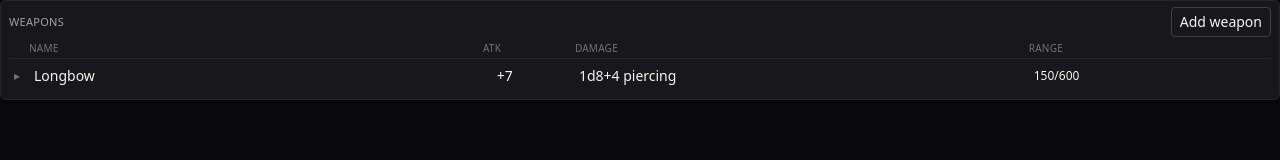
it: WeaponsTable › adds a weapon
This screenshot has width=1280, height=160.
Click the button "Add weapon" at (1221, 22), box [1171,7,1271,37]
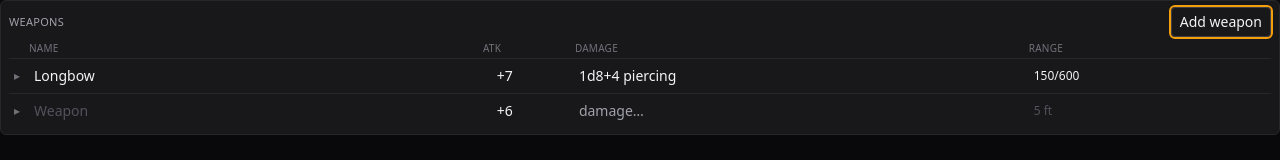
Now the number of list items with test id "weapon-row" is 2, box [9,59,1271,94]; [9,94,1271,128]
